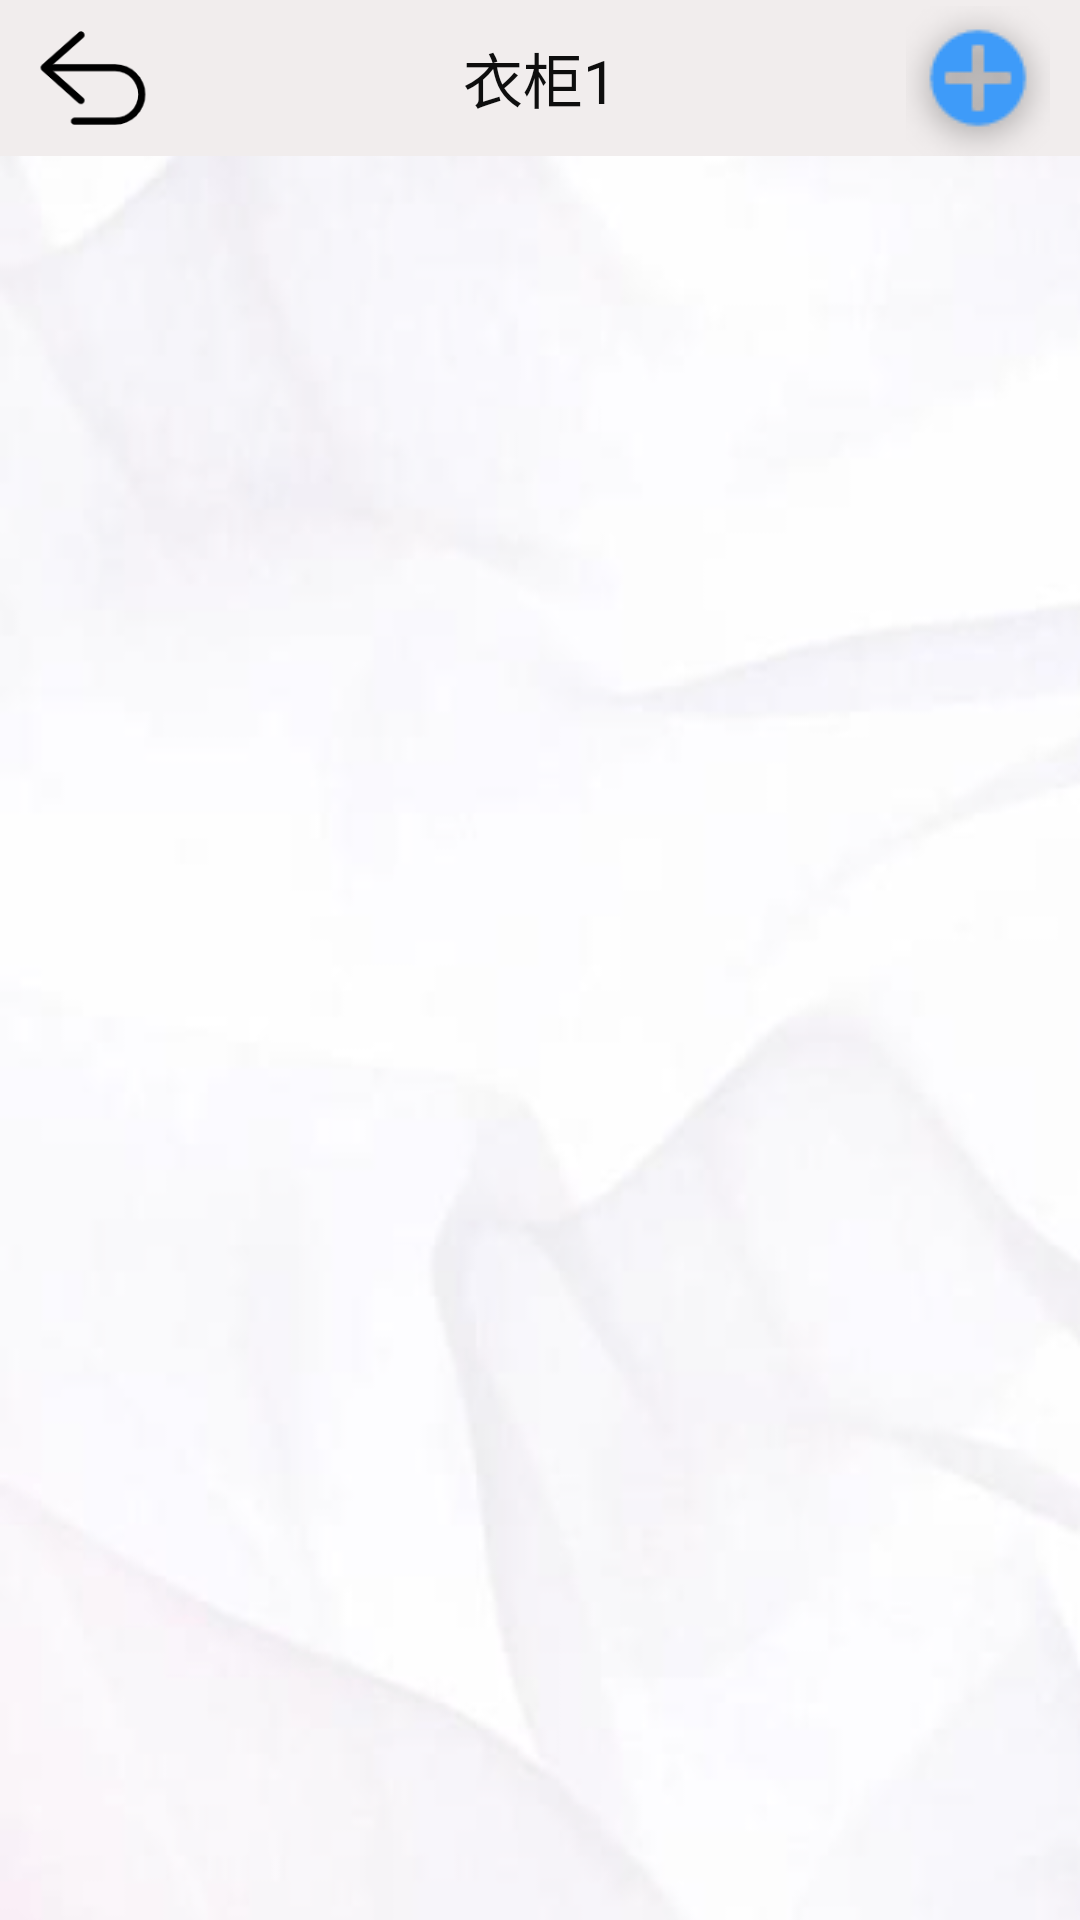

Where icons sit on this 1080px x 1920px app screen, as bbox=[x1, y1, x2, y2]:
back: bbox=[40, 31, 146, 125]
plus: bbox=[924, 29, 1032, 138]
